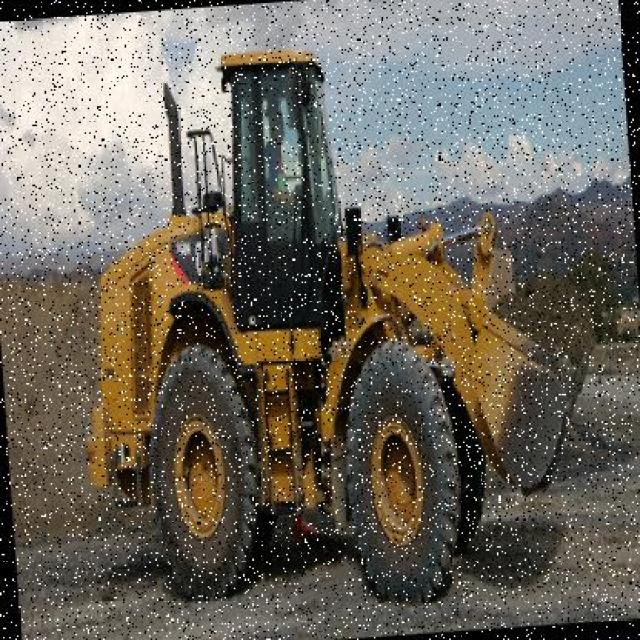buldozerpayloadergrader: (54, 4, 608, 631)
